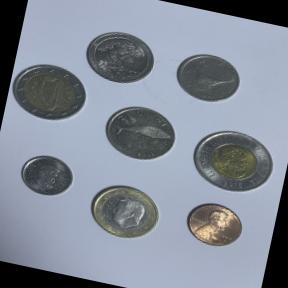1 Euro-B: (80, 174, 171, 248)
2 Euro-B: (3, 54, 96, 133)
Canada-10cent-B: (14, 148, 80, 205)
Canada-2Dollar-B: (181, 115, 286, 206)
Croatia-2Kune-B: (94, 94, 188, 175)
US-1cent-B: (176, 192, 250, 254)
US-25cent-B: (79, 23, 162, 90)
